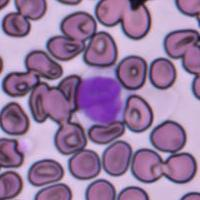M: (76, 70, 123, 127)
